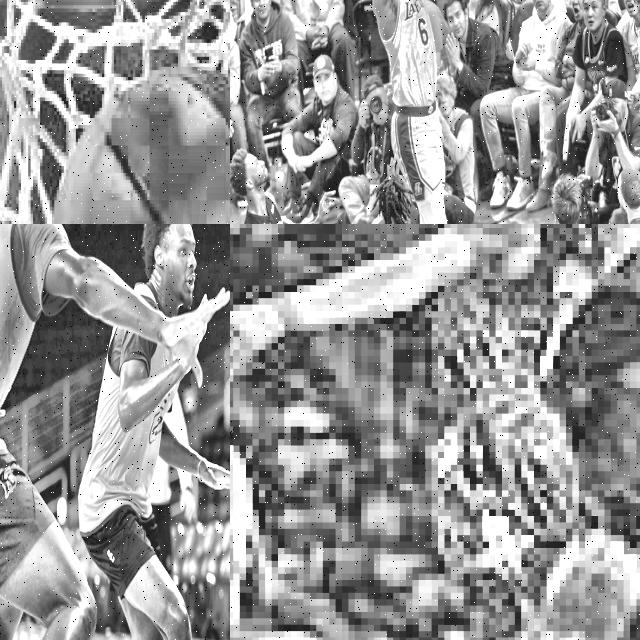Basketball: (53, 70, 230, 224)
